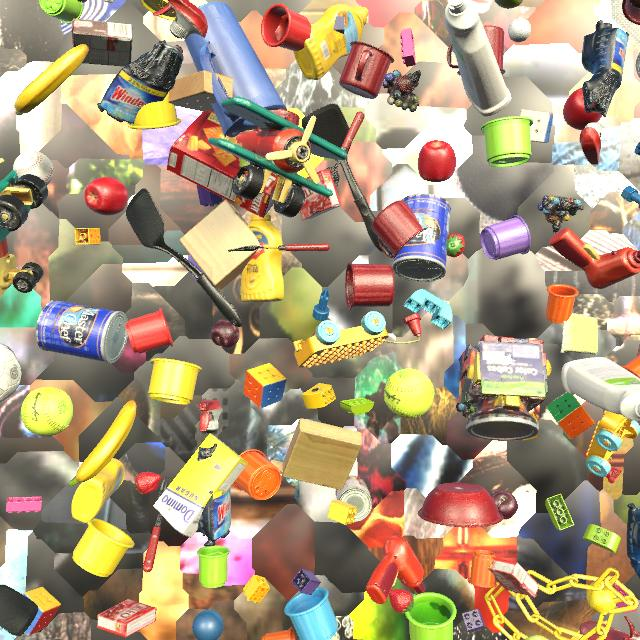ycb_002_master_chef_can: (36, 300, 128, 364), (392, 193, 451, 282)
ycb_003_cracker_box: (167, 111, 278, 218)
ycb_004_sugar_box: (153, 433, 248, 538)
ycb_005_tomato_soup_can: (336, 476, 372, 522)
ycb_006_mustard_bottle: (293, 4, 369, 80), (241, 214, 284, 302), (71, 458, 125, 523)
ycb_007_tuna_fish_can: (636, 53, 640, 77)
ycb_008_pudding_box: (72, 19, 133, 67)
ycb_009_gelatin_box: (97, 599, 157, 638), (488, 557, 539, 598), (300, 169, 341, 220)
ycb_011_banana: (69, 400, 136, 486), (14, 44, 89, 116)
ycb_012_strawberry: (389, 589, 414, 614), (134, 472, 161, 494), (446, 233, 465, 257)
ycb_013_apple: (84, 177, 128, 216), (563, 88, 602, 130), (418, 140, 456, 182), (78, 0, 87, 3)
ycb_014_lemon: (586, 581, 616, 616), (546, 359, 552, 378)
ycb_016_pear: (495, 0, 523, 9), (239, 158, 250, 167)
ycb_018_plum: (211, 320, 240, 348), (491, 490, 518, 520)
